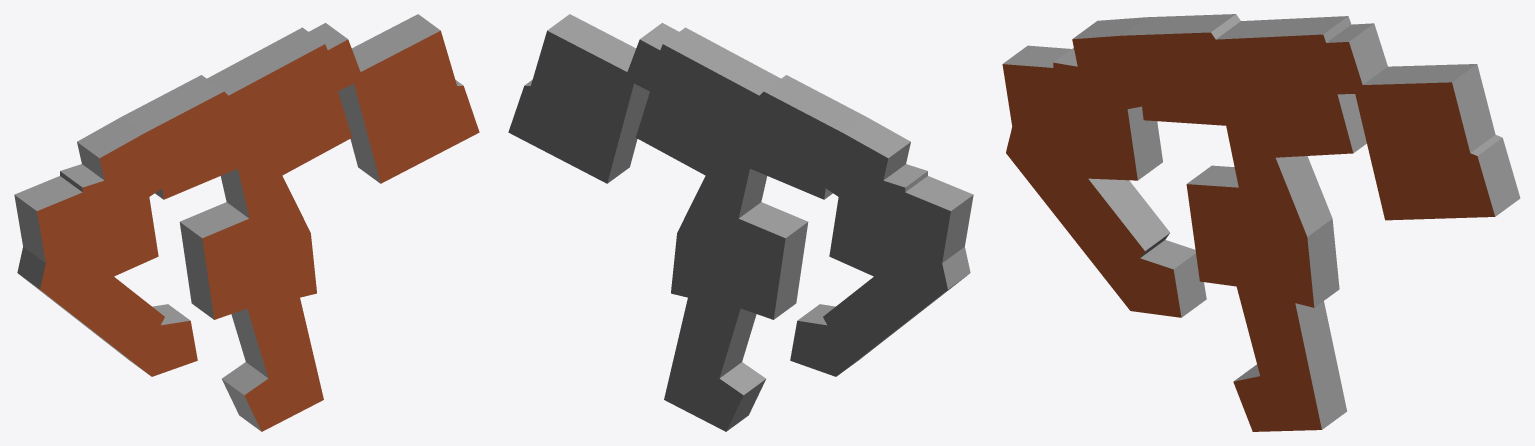
Rendered from construction_0483_assumed_A_Casa_h6m.obj.
3 views of the same model, side by side, from view 1: azimuth 30°, elevation 25°; view 2: azimuth 150°, elevation 25°; view 3: azimuth 330°, elevation 25° (orthographic). The views are drawn at different scales.
Parts seen in each view (by area): view 1: construction_0483_assumed_A_Casa; view 2: construction_0483_assumed_A_Casa; view 3: construction_0483_assumed_A_Casa.
Part boxes in pixels (x1,y1,x2,y2): construction_0483_assumed_A_Casa: (14,14,479,431); construction_0483_assumed_A_Casa: (508,14,973,431); construction_0483_assumed_A_Casa: (1002,14,1520,431).
Bounding box in the file's own units: 67.58 × 54.34 × 6.
